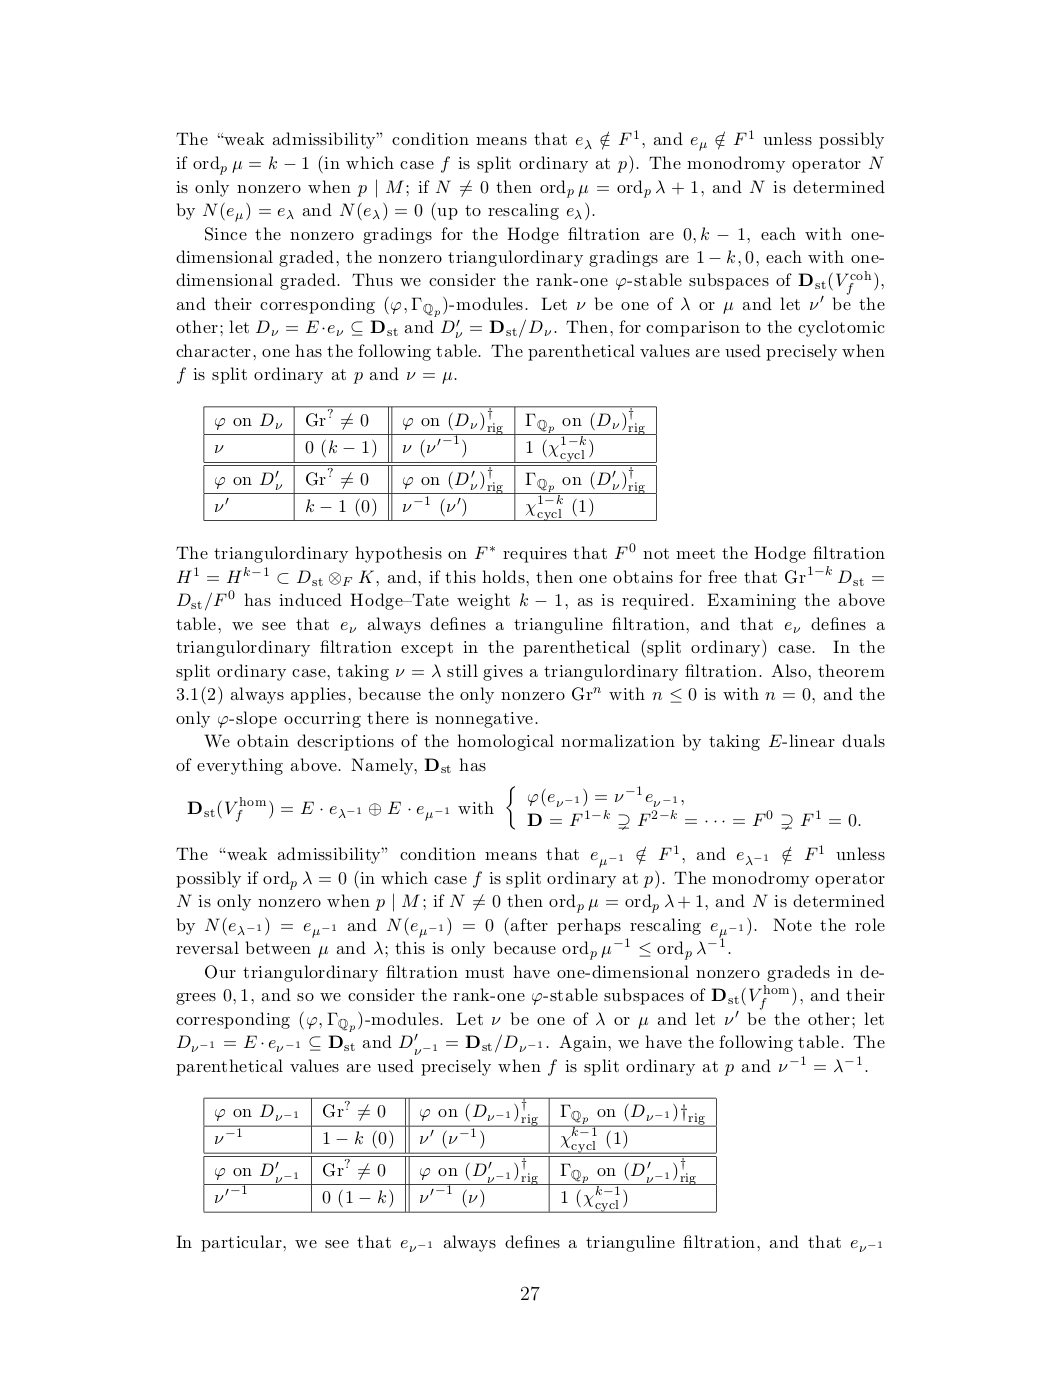Table: (203, 1096, 716, 1213), (203, 405, 656, 520)
formula: (187, 785, 860, 831)
